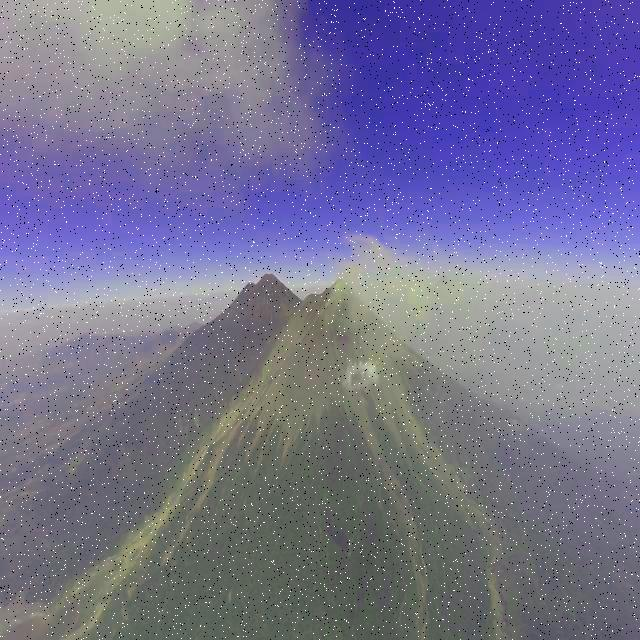Plume: (0, 0, 329, 200), (340, 225, 450, 355)
Summit: (330, 274, 358, 292)
